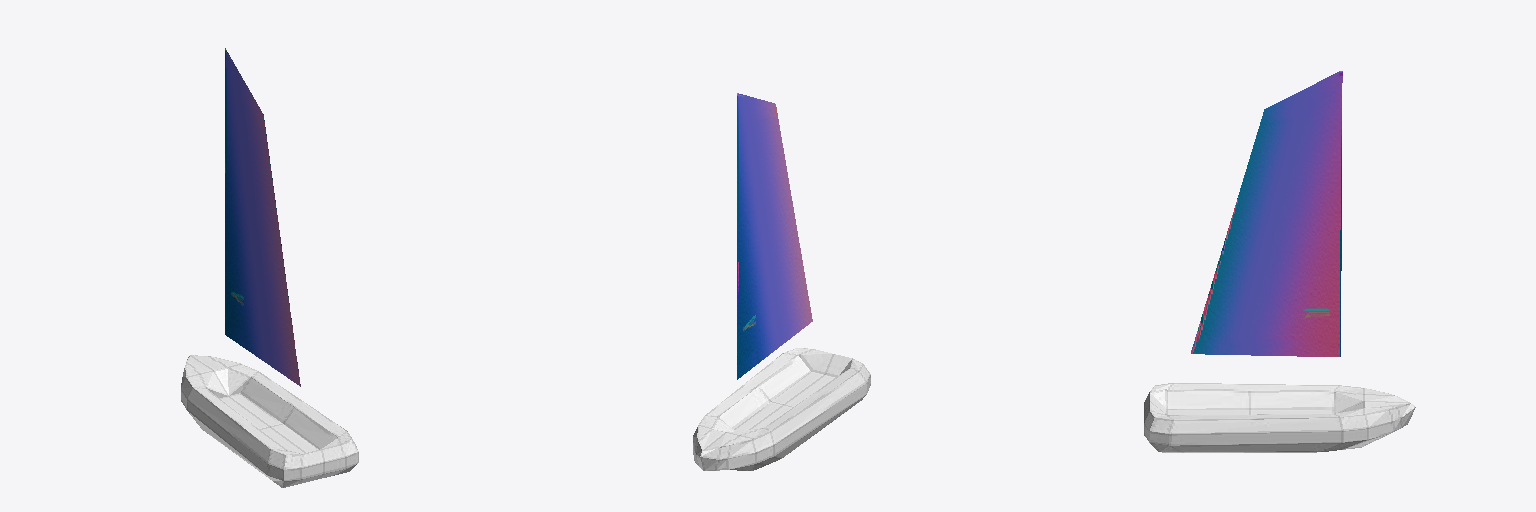
3 views of the same model, side by side, from view 1: azimuth 30°, elevation 25°; view 2: azimuth 150°, elevation 25°; view 3: azimuth 270°, elevation 25° (orthographic).
Visible parts, largest first — view 1: Cylinder_Cylinder.003, Cube_Cube.001; view 2: Cylinder_Cylinder.003, Cube_Cube.001; view 3: Cylinder_Cylinder.003, Cube_Cube.001.
Boxes of the visible parts, x1=… form: Cylinder_Cylinder.003: x1=225, y1=48, x2=300, y2=386; Cube_Cube.001: x1=181, y1=355, x2=358, y2=487; Cylinder_Cylinder.003: x1=737, y1=93, x2=812, y2=379; Cube_Cube.001: x1=693, y1=348, x2=870, y2=470; Cylinder_Cylinder.003: x1=1191, y1=71, x2=1342, y2=356; Cube_Cube.001: x1=1144, y1=383, x2=1415, y2=452.
Size of the model in its own units: 2 by 8.39 by 5.39.
Materials: 2 (2 with a texture image).